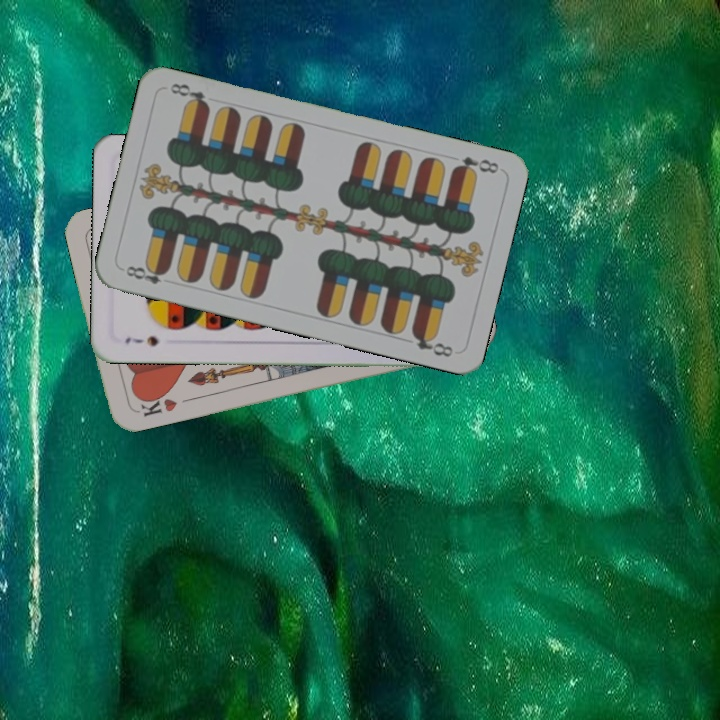E8: (448, 152, 502, 179), (121, 261, 171, 287)
HK: (130, 388, 179, 419)
S7: (121, 332, 161, 349)
